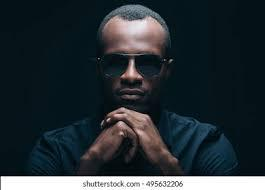sunglasses: (95, 45, 164, 81)
